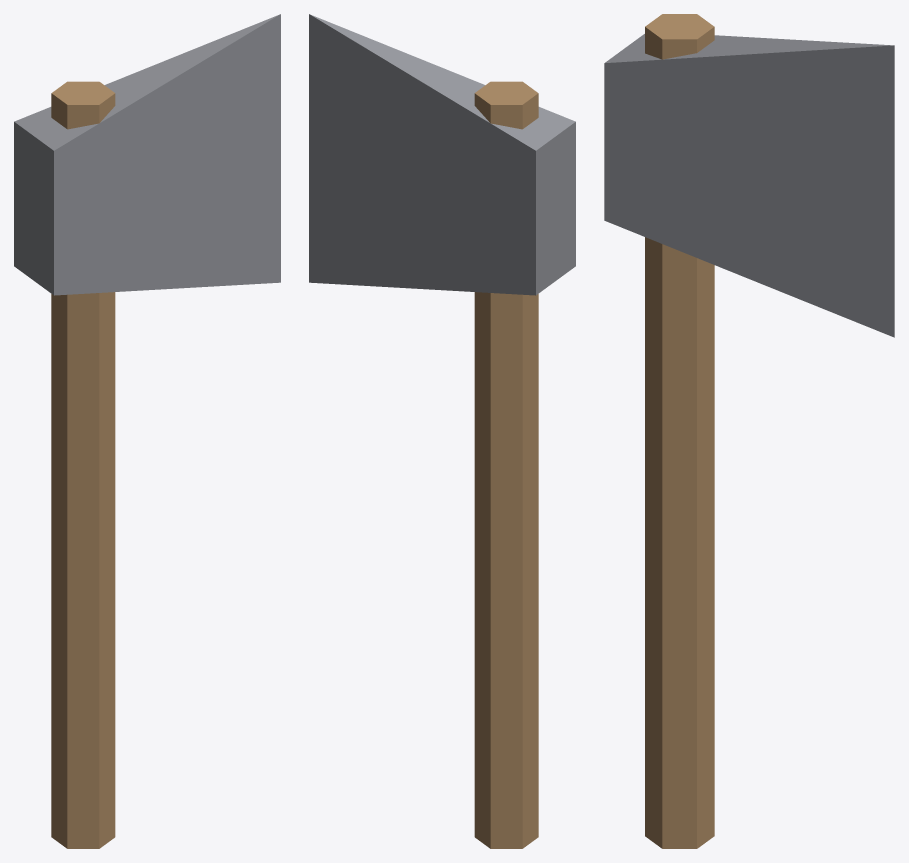
Rendered from tool_axe.glb.
The picture shows the model from 3 angles, left to right: view 1: azimuth 30°, elevation 25°; view 2: azimuth 150°, elevation 25°; view 3: azimuth 330°, elevation 25°; orthographic projection. The views are drawn at different scales.
Visible parts, largest first — view 1: Tool; view 2: Tool; view 3: Tool.
Boxes of the visible parts, <box> form: Tool: <box>14,14,280,848</box>; Tool: <box>309,14,575,848</box>; Tool: <box>604,14,894,848</box>.
Size of the model in its own units: 0.25 by 0.75 by 0.07.
